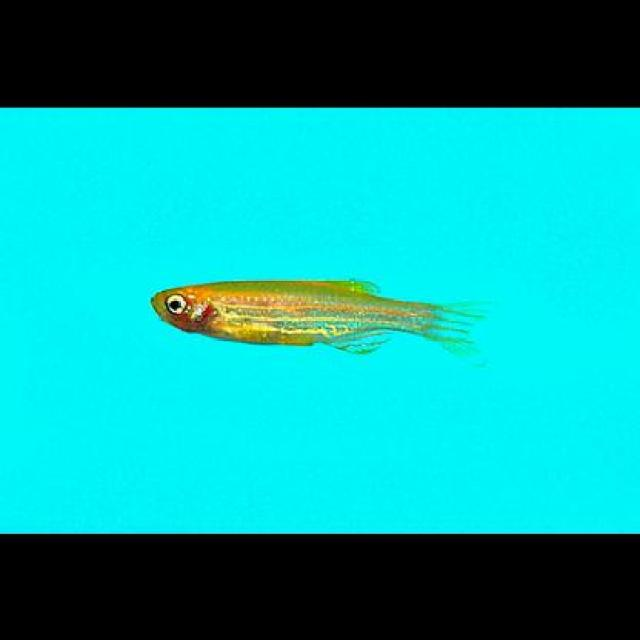ZebraFish: (150, 274, 505, 368)
